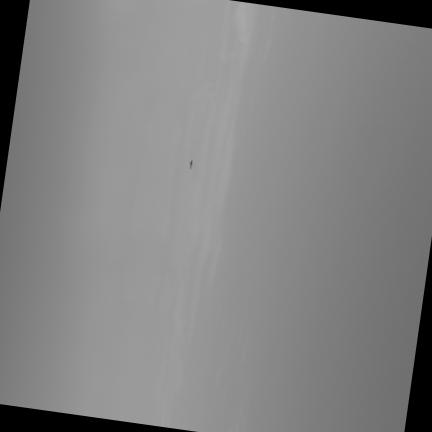Shahed: (188, 157, 192, 169)
